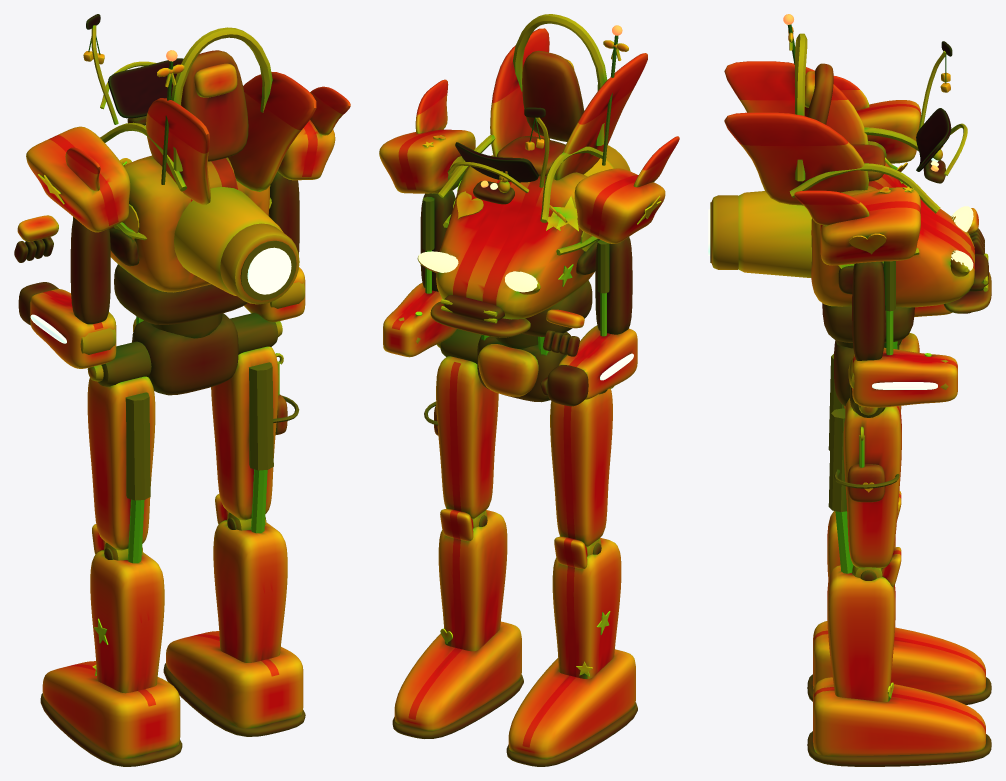
The model's file is titan_stryder.glb.
The picture shows the model from 3 angles, left to right: view 1: azimuth 30°, elevation 25°; view 2: azimuth 150°, elevation 25°; view 3: azimuth 270°, elevation 25°; orthographic projection. The views are drawn at different scales.
Parts seen in each view (by area): view 1: LegLMesh, LegRMesh, Torso, Engine, ArmLMesh, ArmRMesh, Pelvis, Core, Cockpit; view 2: Torso, LegRMesh, LegLMesh, ArmLMesh, ArmRMesh, Engine, Pelvis, Cockpit, Eye; view 3: LegRMesh, Engine, Torso, ArmRMesh, LegLMesh, ArmLMesh, Cockpit, Pelvis, Eye.
Boxes of the visible parts, x1,y1,x2,y2 form: LegLMesh: [40, 341, 182, 766]; LegRMesh: [163, 313, 305, 736]; Torso: [100, 27, 272, 324]; Engine: [146, 50, 316, 304]; ArmLMesh: [14, 126, 130, 368]; ArmRMesh: [244, 86, 350, 322]; Pelvis: [132, 313, 238, 395]; Core: [247, 247, 291, 294]; Cockpit: [83, 14, 156, 125]; Torso: [417, 14, 607, 337]; LegRMesh: [392, 329, 523, 738]; LegLMesh: [506, 354, 637, 766]; ArmLMesh: [540, 136, 679, 406]; ArmRMesh: [379, 79, 475, 357]; Engine: [490, 25, 647, 180]; Pelvis: [477, 332, 569, 402]; Cockpit: [447, 107, 549, 204]; Eye: [418, 251, 537, 292]; LegRMesh: [807, 385, 991, 766]; Engine: [710, 14, 868, 277]; Torso: [789, 33, 991, 342]; ArmRMesh: [794, 186, 957, 407]; LegLMesh: [807, 354, 991, 704]; ArmLMesh: [833, 76, 984, 316]; Cockpit: [918, 41, 967, 183]; Pelvis: [834, 333, 919, 406]; Eye: [951, 206, 973, 270].
Size of the model in its own units: 2.81 by 6.85 by 2.57.
